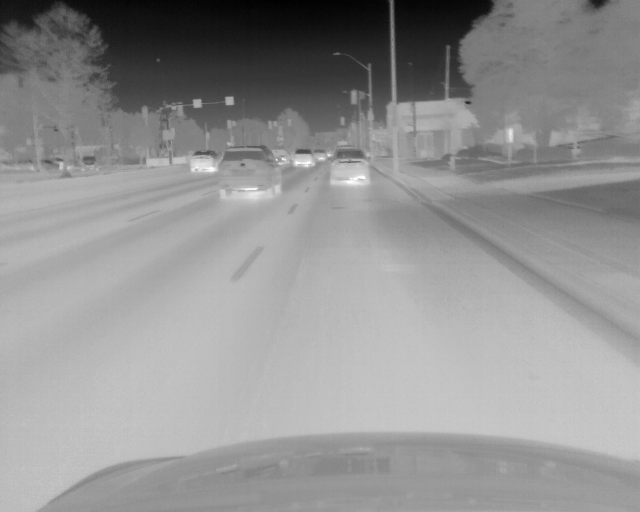car: (218, 145, 282, 198), (329, 147, 368, 187), (190, 150, 220, 173), (292, 148, 314, 169), (270, 149, 288, 167), (313, 148, 327, 164)
